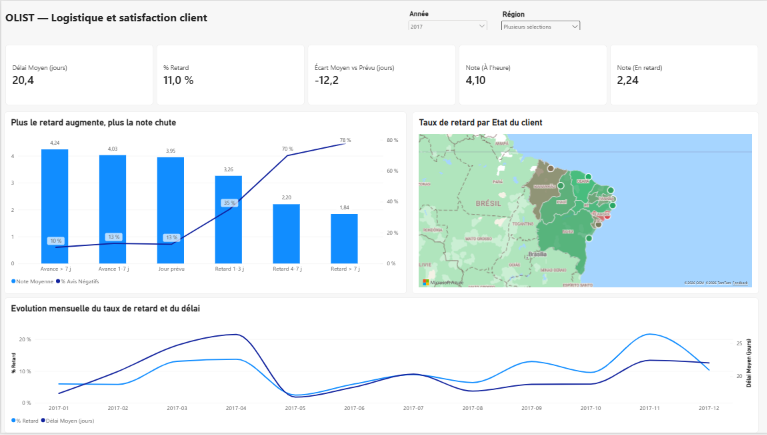

The dashboard page shown, as its layout file describes it:
{"tool":"powerbi","page":{"name":"Logistique","canvas":[1920,1080],"ordinal":2},"visuals":[{"type":"textbox","box":[9.5,0,1634.4,45.3],"z":0},{"type":"slicer","fields":{"Values":["dim_date.annee"]},"box":[1012.8,23.4,207.3,50.9],"z":1000},{"type":"slicer","fields":{"Values":["dim_client.region"]},"box":[1244.7,23.4,207.3,50.9],"z":2000},{"type":"textbox","box":[10.6,23.4,519.1,42.6],"z":3000},{"type":"cardVisual","fields":{"Data":["_Mesures.Délai Moyen (jours)","_Mesures.% Retard","_Mesures.Écart Moyen vs Prévu (jours)","_Mesures.Note (À l'heure)","_Mesures.Note (En retard)"]},"box":[10.6,110.6,1883,151.1],"z":4000},{"type":"lineClusteredColumnComboChart","title":"Plus le retard augmente, plus la note chute","fields":{"Category":["fact_commandes.Tranche Retard"],"Y":["_Mesures.Note Moyenne"],"Y2":["_Mesures.% Avis Négatifs"]},"box":[7.5,277.5,1005,455],"z":5000},{"type":"azureMap","title":"Taux de retard par Etat du client","fields":{"Category":["dim_client.etat_pays"]},"box":[1027.7,276.6,866,455.3],"z":6000},{"type":"lineChart","title":"Evolution mensuelle du taux de retard et du délai","fields":{"Category":["dim_date.annee_mois"],"Y":["_Mesures.% Retard"],"Y2":["_Mesures.Délai Moyen (jours)"]},"box":[8.5,742.6,1885.1,338.3],"z":7000}]}

Visuals, with their boxes in screenshot pixels (x1, y1, x2, y2), scaled from the page's 1920x1080 canvas onto the 767x435 screenshot:
textbox: Rect(4, 0, 657, 18)
slicer - dim_date.annee: Rect(405, 9, 487, 30)
slicer - dim_client.region: Rect(497, 9, 580, 30)
textbox: Rect(4, 9, 212, 27)
cardVisual - _Mesures.Délai Moyen (jours) x _Mesures.% Retard: Rect(4, 45, 756, 105)
"Plus le retard augmente, plus la note chute" lineClusteredColumnComboChart: Rect(3, 112, 404, 295)
"Taux de retard par Etat du client" azureMap: Rect(411, 111, 756, 295)
"Evolution mensuelle du taux de retard et du délai" lineChart: Rect(3, 299, 756, 434)
